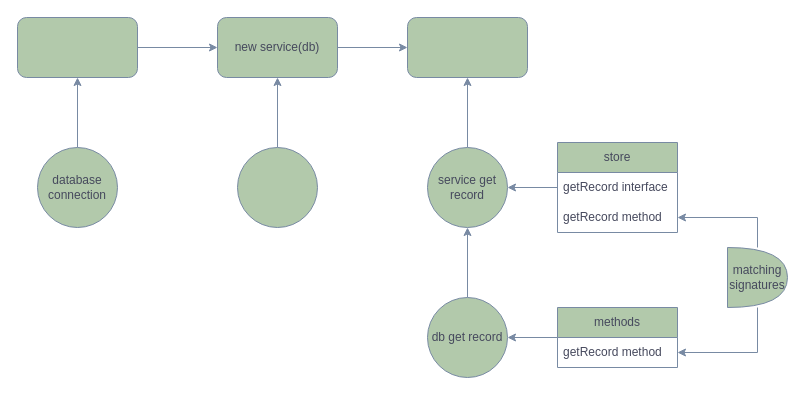
The diagram is 805 pixels wide and 395 high, and some of its shapes have lost their labels. Each missing label, with the box of its shape:
get service record: (406, 16, 528, 78)
new DB: (16, 16, 138, 78)
store service struct: (236, 146, 318, 228)
